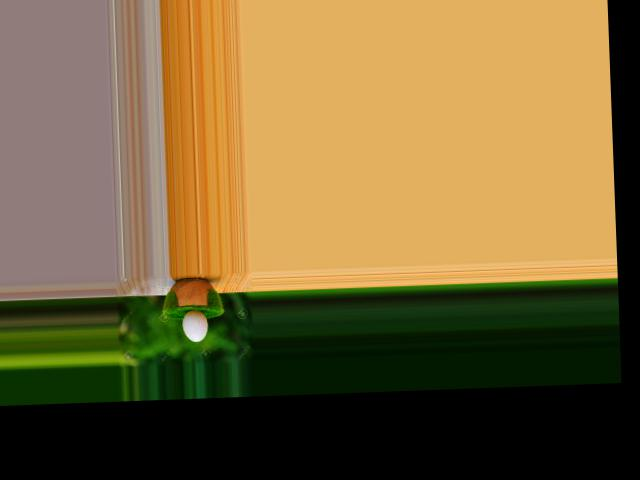egg: (180, 309, 207, 341)
